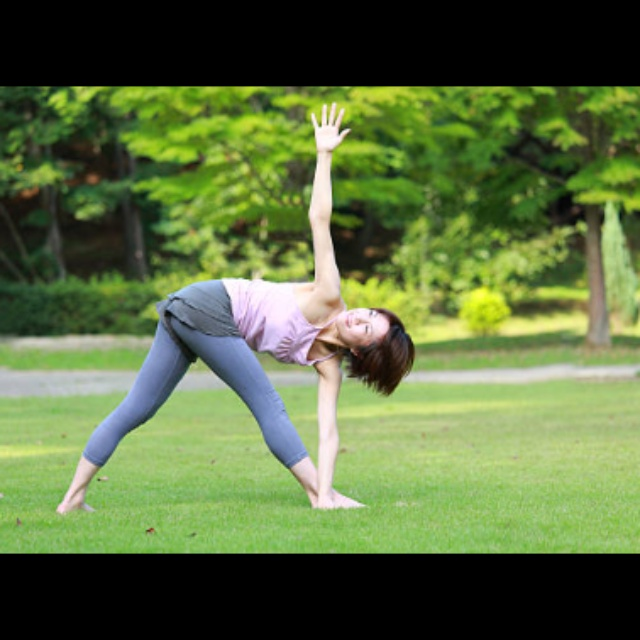Triangle_Pose: (40, 101, 417, 516)
